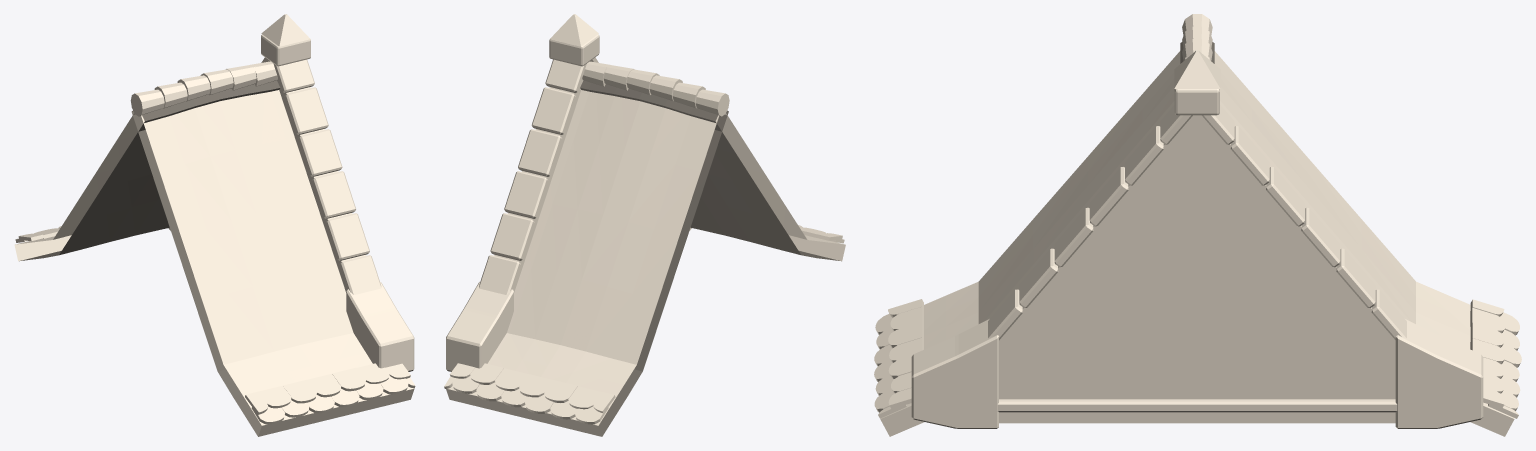
The model's file is SM_VK_Roof_Gable_Flush.fbx.
3 views of the same model, side by side, from view 1: azimuth 30°, elevation 25°; view 2: azimuth 150°, elevation 25°; view 3: azimuth 270°, elevation 25° (orthographic). The views are drawn at different scales.
Visible parts, largest first — view 1: SM_VK_Roof_Gable_Flush.001; view 2: SM_VK_Roof_Gable_Flush.001; view 3: SM_VK_Roof_Gable_Flush.001.
Boxes of the visible parts, <box> form: SM_VK_Roof_Gable_Flush.001: <box>14,14,415,436</box>; SM_VK_Roof_Gable_Flush.001: <box>444,14,845,436</box>; SM_VK_Roof_Gable_Flush.001: <box>874,14,1521,436</box>.
Bounding box in the file's own units: 3.39 × 5.79 × 8.88.
